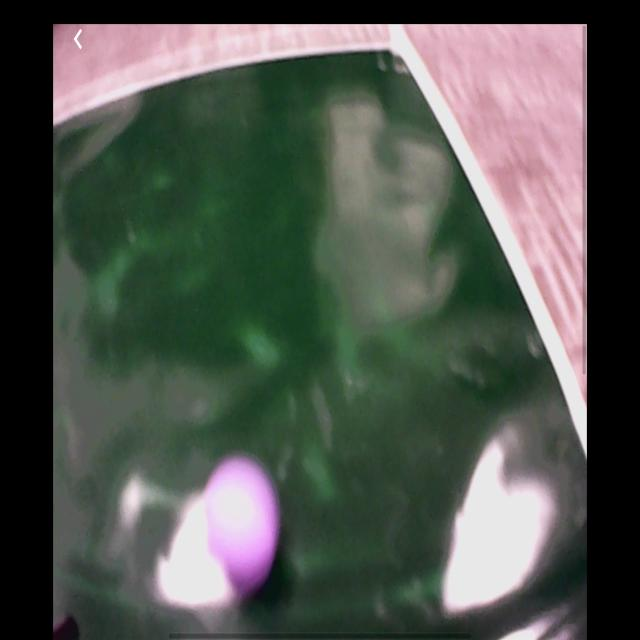ball: (203, 454, 281, 600)
